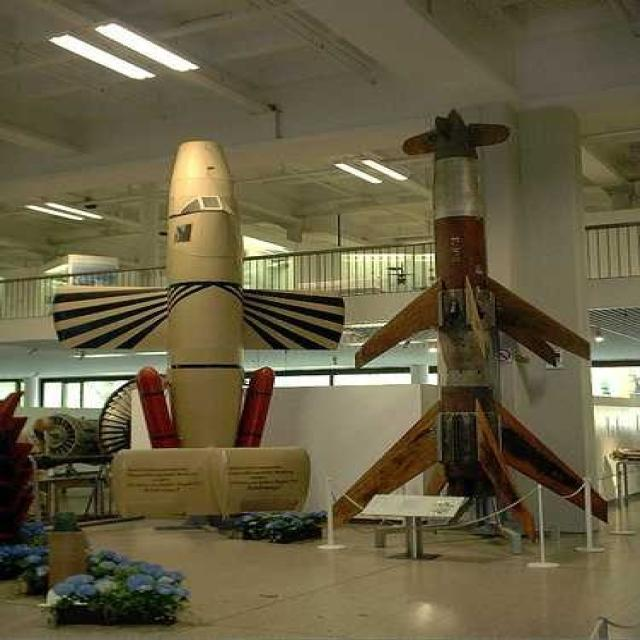missile: (352, 106, 607, 526), (62, 140, 324, 514)
